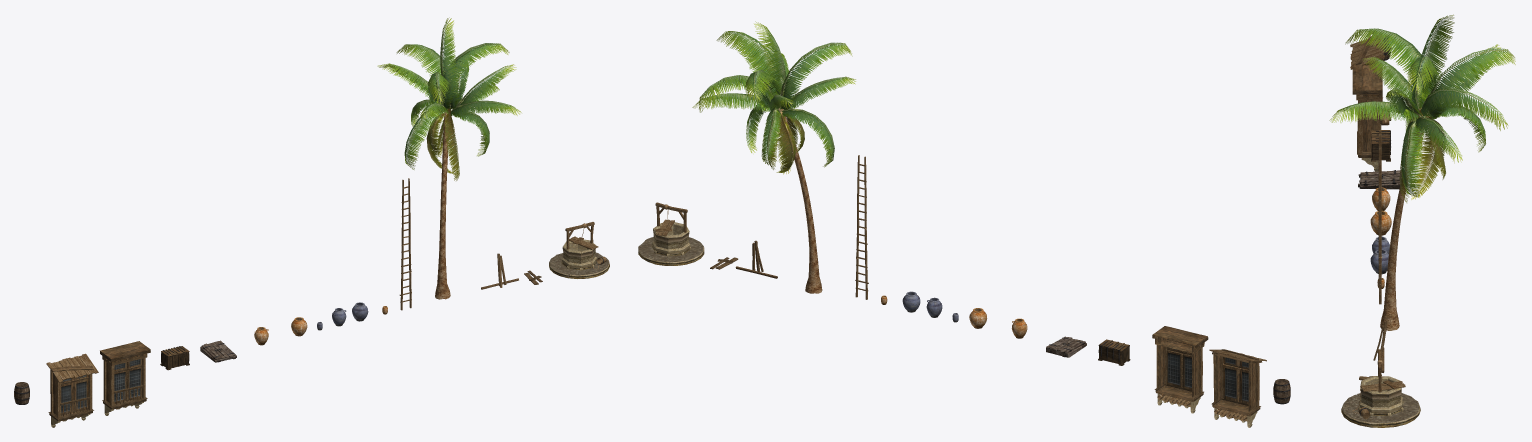
File: oriental_houses_04_LOD.fbx
3 views of the same model, side by side, from view 1: azimuth 30°, elevation 25°; view 2: azimuth 150°, elevation 25°; view 3: azimuth 270°, elevation 25° (orthographic). The views are drawn at different scales.
Parts seen in each view (by area): view 1: palm_01, bay_02, bay_01, well_01, ladder_01, chest_01; view 2: palm_01, bay_02, bay_01, well_01, ladder_01, chest_01; view 3: palm_01, well_01, bay_02, bay_01, hatch_01, ladder_01, chest_01, jar_01, jar_02, jar_03, plank_01.
Boxes of the visible parts, bbox=[...] form: palm_01: bbox=[377, 17, 521, 299]; bay_02: bbox=[100, 341, 150, 415]; bay_01: bbox=[46, 353, 98, 427]; well_01: bbox=[549, 222, 609, 278]; ladder_01: bbox=[399, 178, 411, 310]; chest_01: bbox=[160, 346, 189, 370]; palm_01: bbox=[692, 21, 855, 293]; bay_02: bbox=[1152, 326, 1208, 413]; bay_01: bbox=[1209, 349, 1266, 427]; well_01: bbox=[638, 202, 704, 265]; ladder_01: bbox=[855, 155, 868, 299]; chest_01: bbox=[1098, 339, 1130, 365]; palm_01: bbox=[1329, 14, 1515, 330]; well_01: bbox=[1341, 349, 1420, 427]; bay_02: bbox=[1352, 65, 1382, 171]; bay_01: bbox=[1350, 35, 1390, 129]; hatch_01: bbox=[1358, 170, 1401, 189]; ladder_01: bbox=[1378, 130, 1381, 304]; chest_01: bbox=[1371, 130, 1390, 161]; jar_01: bbox=[1370, 211, 1391, 235]; jar_02: bbox=[1370, 249, 1388, 274]; jar_03: bbox=[1372, 187, 1390, 210]; plank_01: bbox=[1373, 321, 1386, 372].
Size of the model in its own units: 1085 by 505 by 243.
